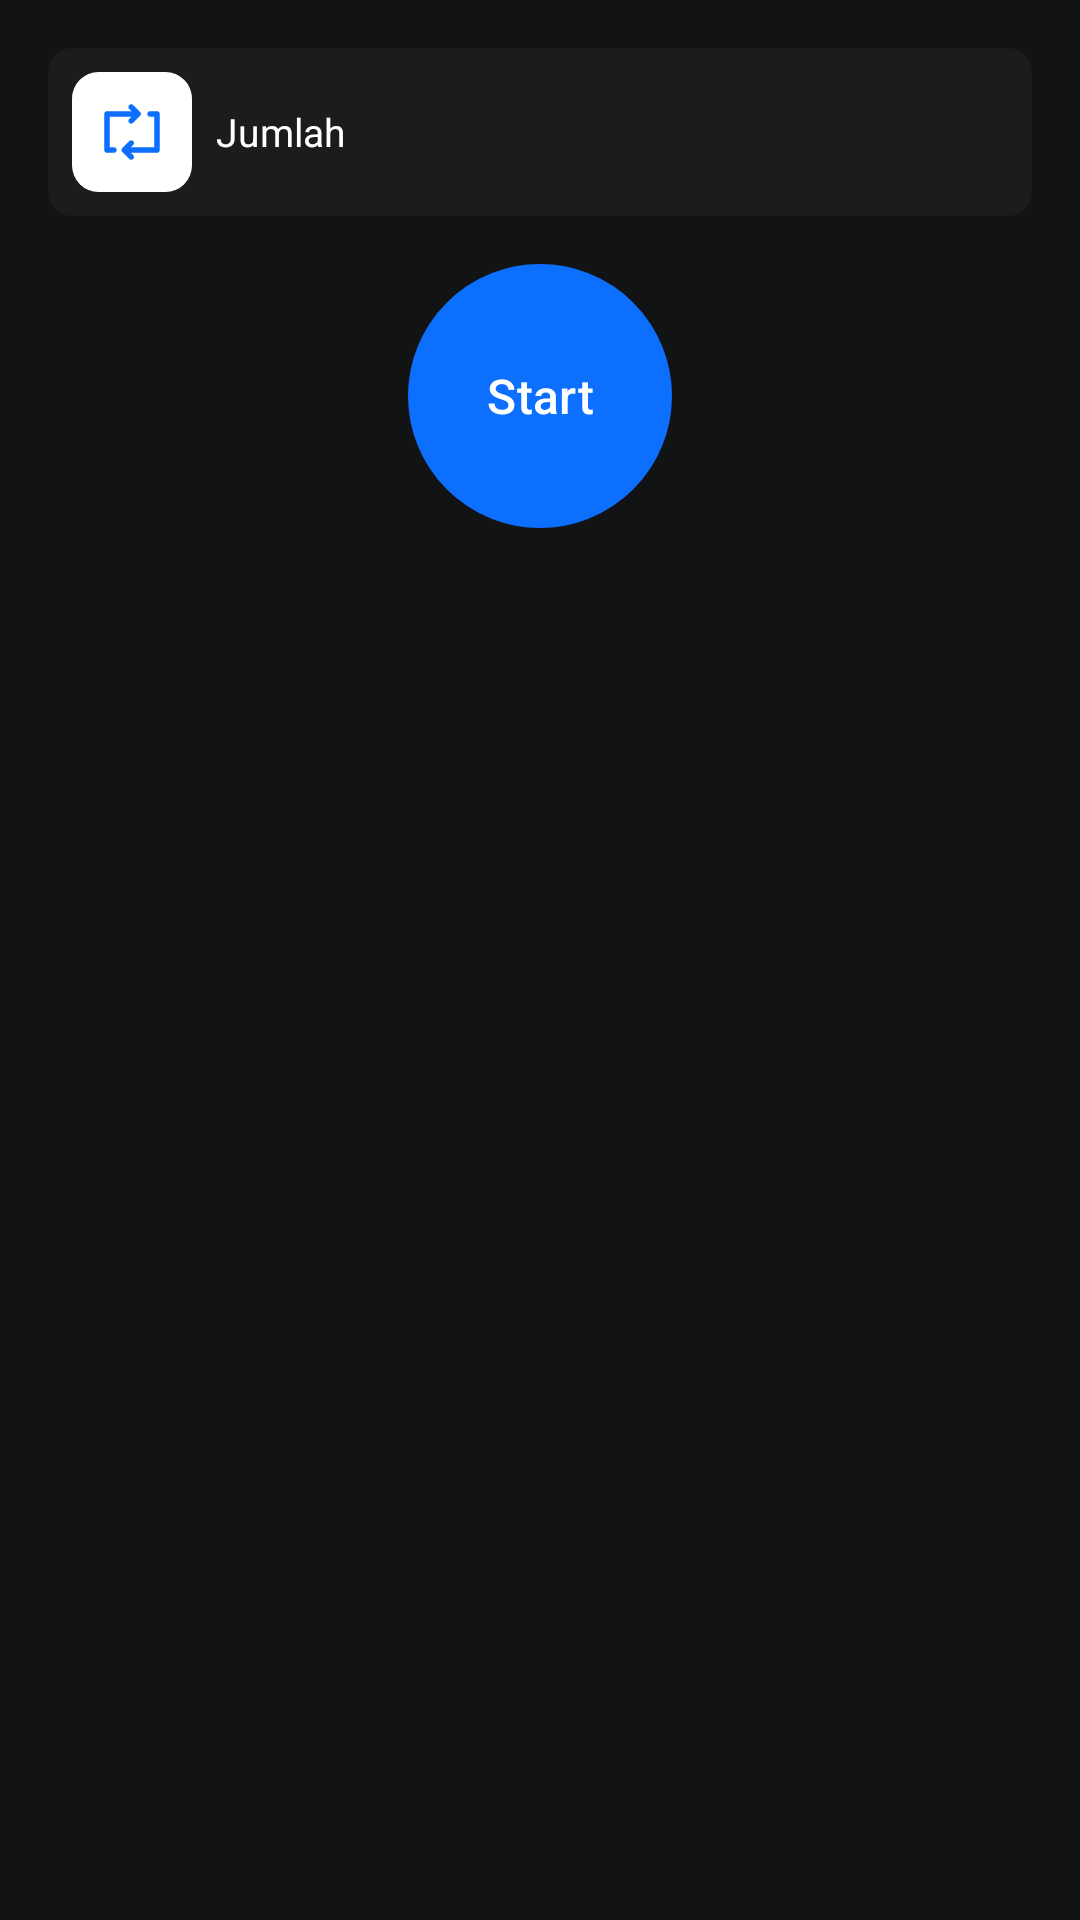

Screen size 1080px×1920px. Icon name, then its center in pixels as (x=x, y=y):
repeat: (x=132, y=132)
